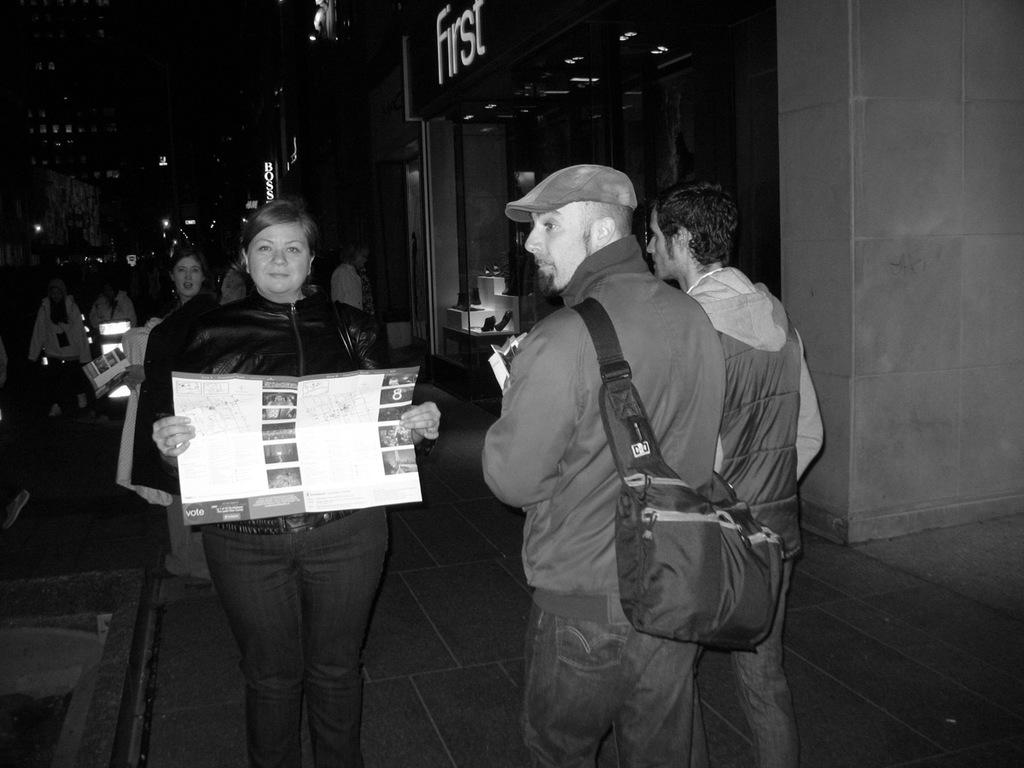Luggage-and-bags: (594, 460, 795, 675)
